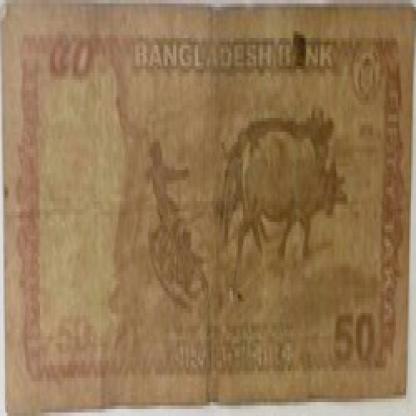Fifty taka: (323, 295, 383, 374), (38, 35, 103, 100)
